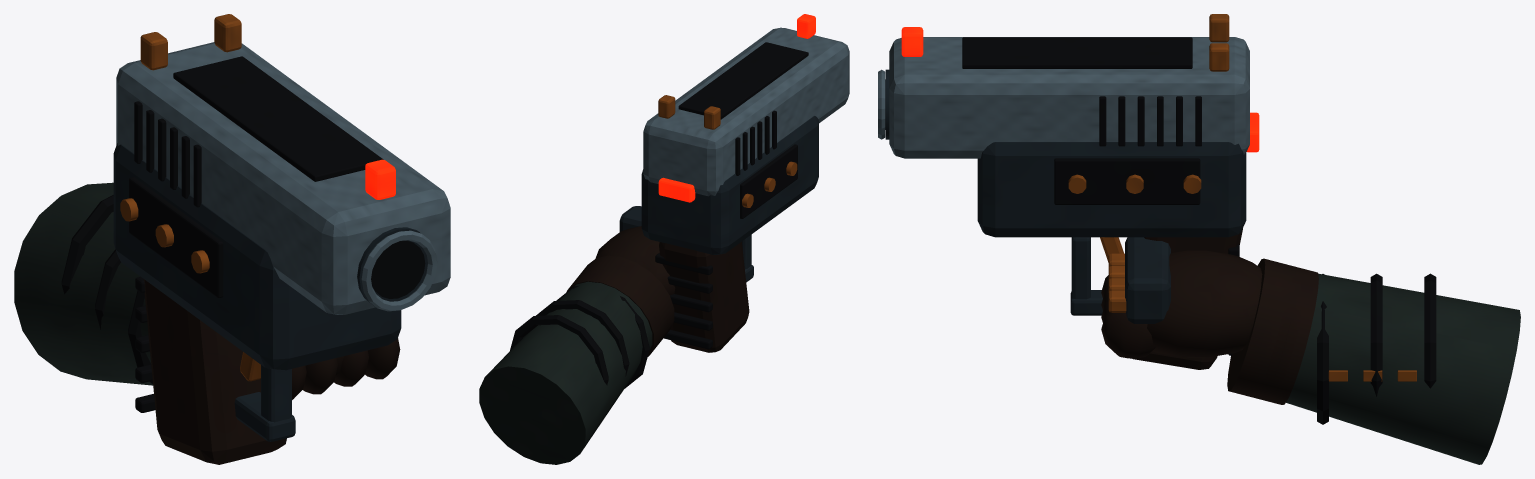
Rendered from pistol.glb.
The picture shows the model from 3 angles, left to right: view 1: azimuth 30°, elevation 25°; view 2: azimuth 150°, elevation 25°; view 3: azimuth 270°, elevation 25°; orthographic projection. The views are drawn at different scales.
Parts seen in each view (by area): view 1: weapon, slide; view 2: weapon, slide; view 3: weapon, slide.
Boxes of the visible parts, bbox=[...] form: weapon: bbox=[14, 143, 437, 464]; slide: bbox=[116, 14, 450, 314]; weapon: bbox=[479, 116, 818, 464]; slide: bbox=[643, 14, 849, 196]; weapon: bbox=[878, 69, 1520, 464]; slide: bbox=[889, 14, 1249, 158].
Bounding box in the file's own units: 0.305 × 0.5687 × 0.8377.
Materials: 7 (7 with a texture image).
